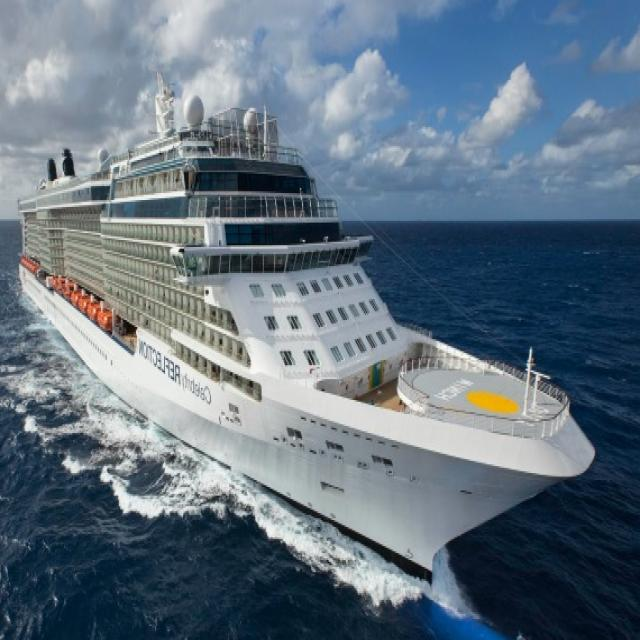passenger ship: (11, 85, 590, 600)
